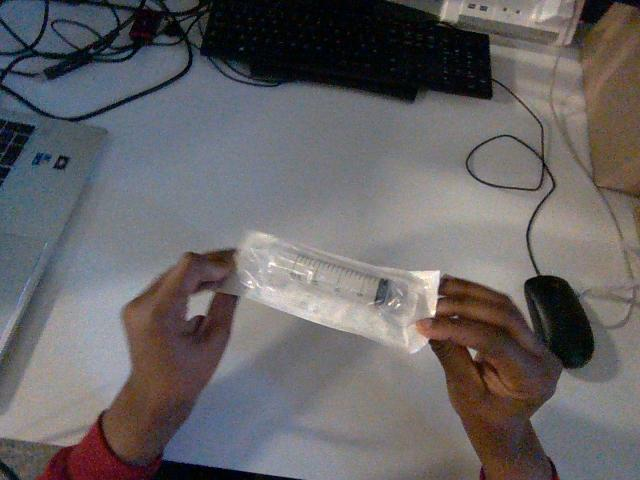syringe: (235, 232, 439, 352)
